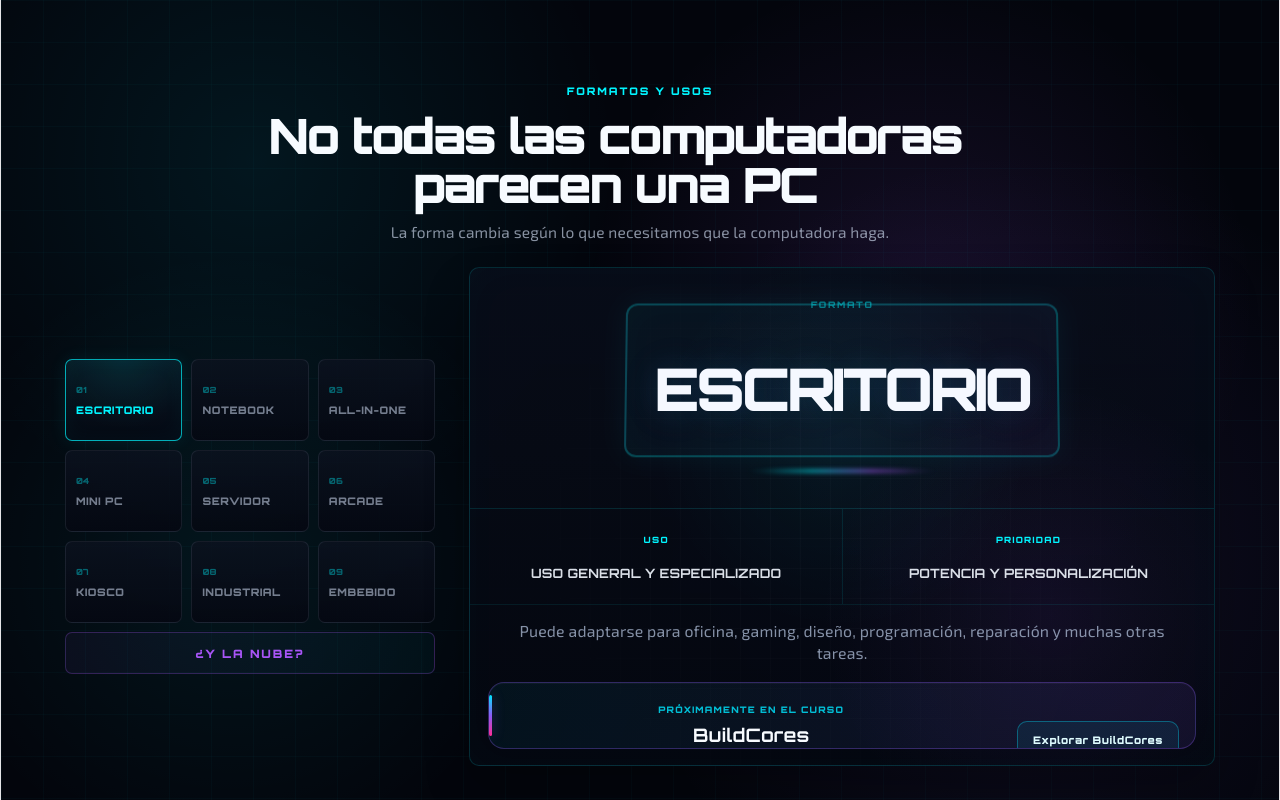
Test: Slide 09 tipos de computadora › explica la nube como una computadora remota
Click the button "¿Y LA NUBE?".
click(250, 653)  # box [65,632,435,674]
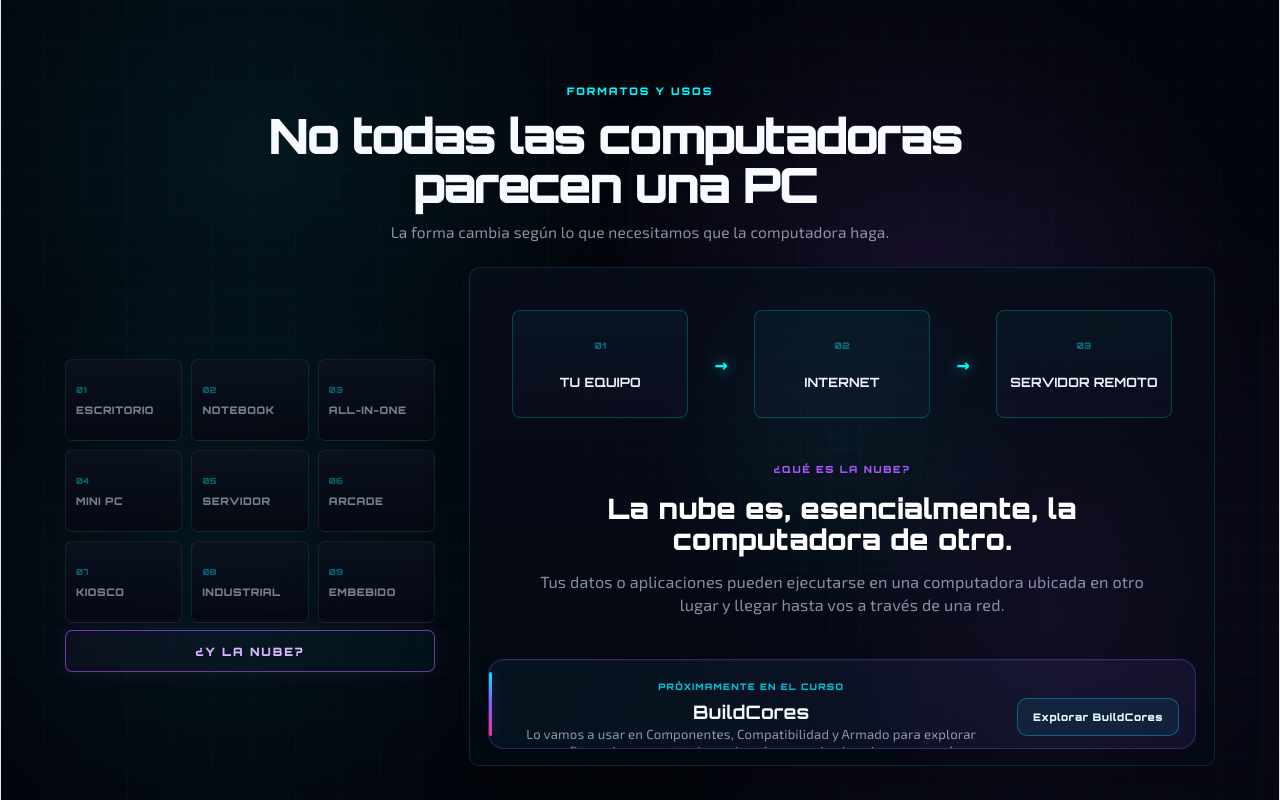
Expected: the text "La nube es, esencialmente, la computadora de otro." is shown, [607,491,1077,557]
Expected: the text "SERVIDOR REMOTO" is shown, [1010,370,1158,396]
